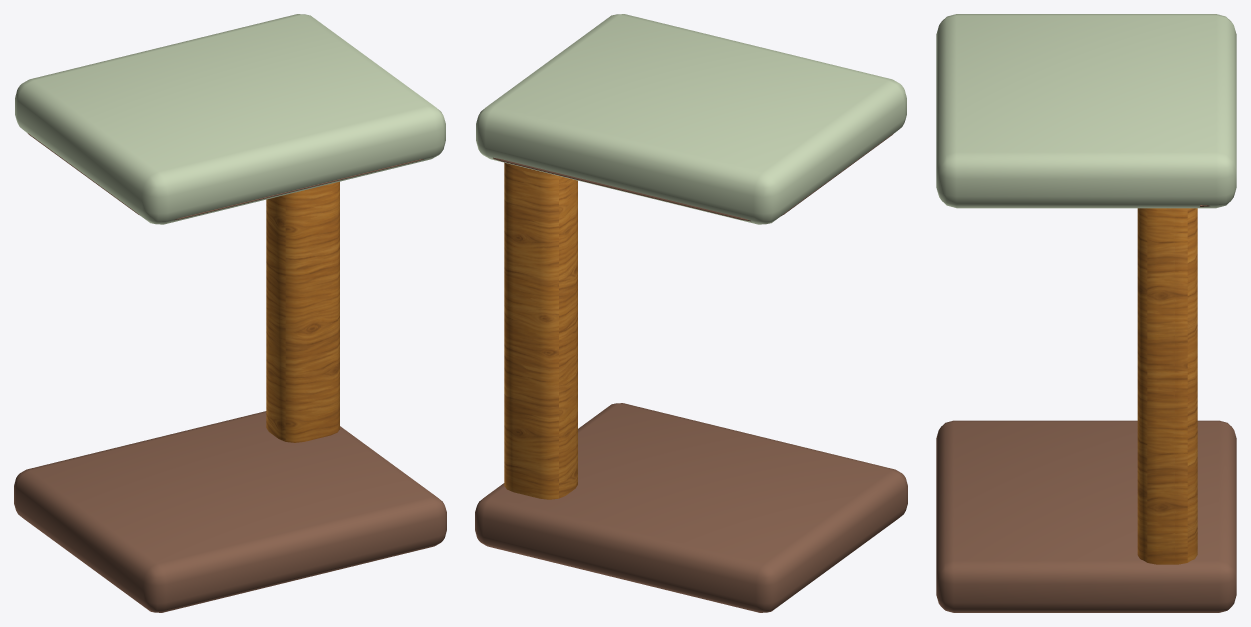
Rendered from c-side-table.glb.
3 views of the same model, side by side, from view 1: azimuth 30°, elevation 25°; view 2: azimuth 150°, elevation 25°; view 3: azimuth 270°, elevation 25° (orthographic). The views are drawn at different scales.
Visible parts, largest first — view 1: c-side-table; view 2: c-side-table; view 3: c-side-table.
Boxes of the visible parts, <box> form: c-side-table: <box>14,14,446,612</box>; c-side-table: <box>475,14,907,612</box>; c-side-table: <box>936,14,1236,612</box>.
Bounding box in the file's own units: 0.46 × 0.64 × 0.38.
3 materials, 1 textured.
